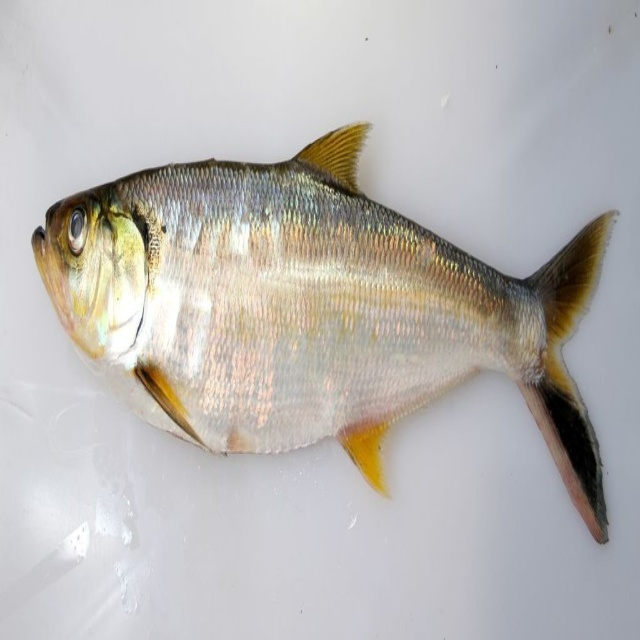Fish: (29, 109, 616, 536)
